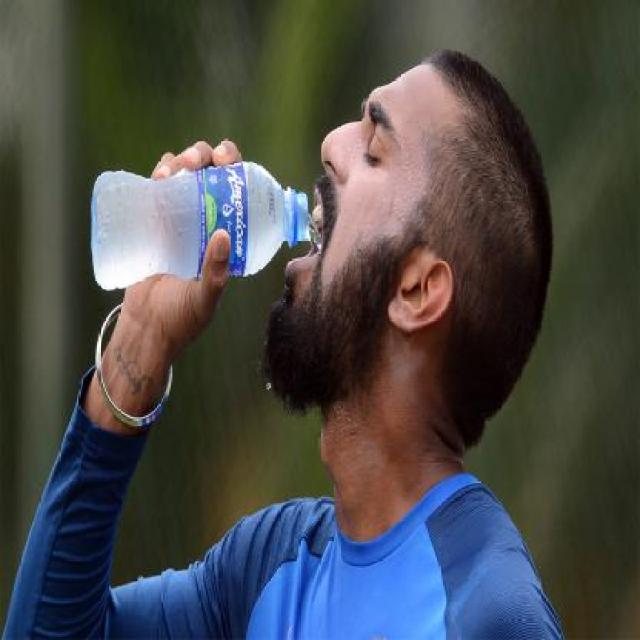Drinking: (83, 142, 329, 296)
